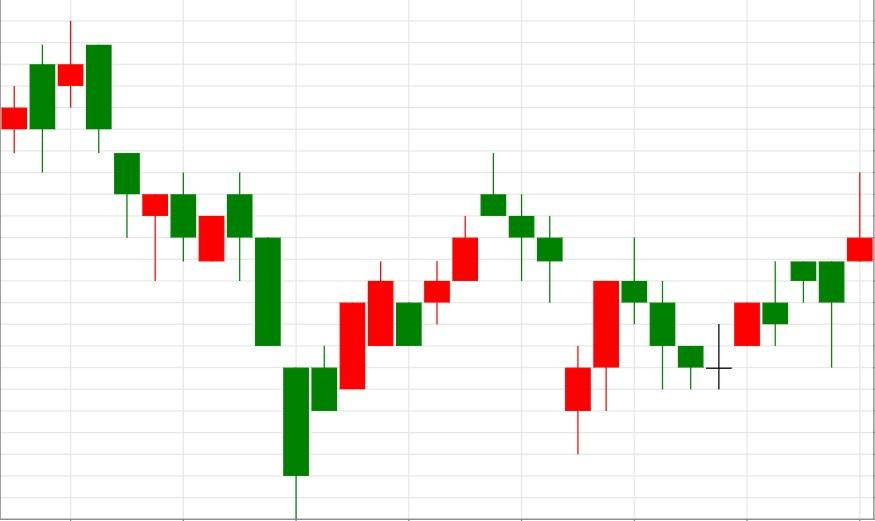three_black_crows_fall: (283, 152, 563, 520), (564, 238, 704, 454)
